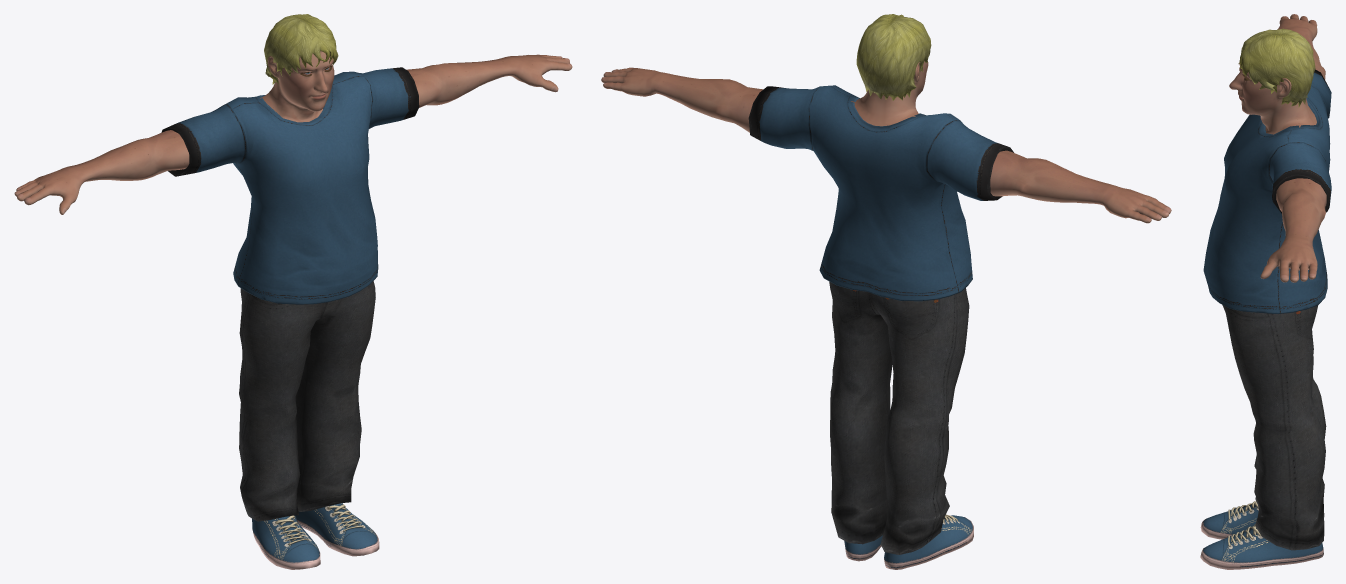
Rendered from dost2.obj.
3 views of the same model, side by side, from view 1: azimuth 30°, elevation 25°; view 2: azimuth 150°, elevation 25°; view 3: azimuth 270°, elevation 25° (orthographic). The views are drawn at different scales.
Visible parts, largest first — view 1: Tops, Bottoms, Body, Shoes, Hair; view 2: Tops, Bottoms, Body, Hair, Shoes; view 3: Tops, Bottoms, Body, Shoes, Hair.
Part boxes in pixels (left/top/right/bottom): Tops: left=161, top=67, right=419, bottom=304; Bottoms: left=239, top=281, right=375, bottom=521; Body: left=14, top=50, right=572, bottom=214; Shoes: left=252, top=503, right=379, bottom=569; Hair: left=264, top=14, right=338, bottom=84; Tops: left=748, top=85, right=1013, bottom=301; Bottoms: left=829, top=281, right=969, bottom=554; Body: left=601, top=61, right=1171, bottom=223; Hair: left=856, top=14, right=931, bottom=100; Shoes: left=844, top=514, right=973, bottom=569; Tops: left=1203, top=69, right=1331, bottom=313; Bottoms: left=1222, top=305, right=1326, bottom=550; Body: left=1229, top=14, right=1326, bottom=282; Shoes: left=1200, top=501, right=1323, bottom=569; Hair: left=1238, top=28, right=1315, bottom=107.
Size of the model in its own units: 190 by 170 by 39.45.
5 materials, 5 textured.
